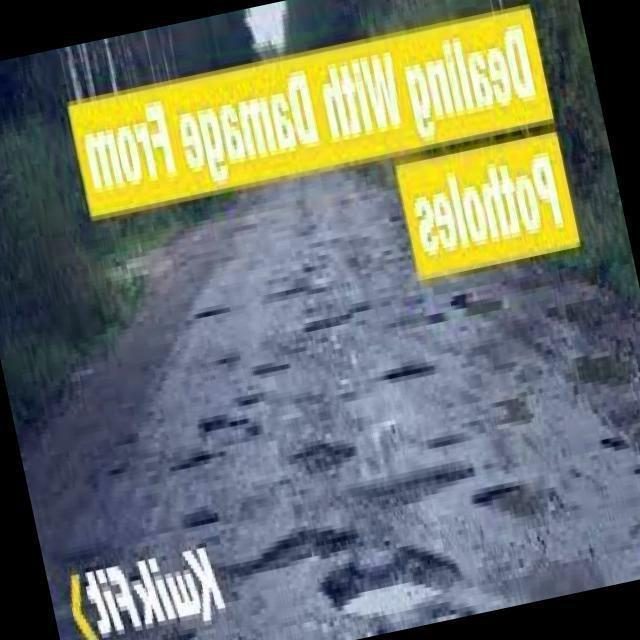pothole: (350, 548, 465, 609), (241, 530, 349, 576)
